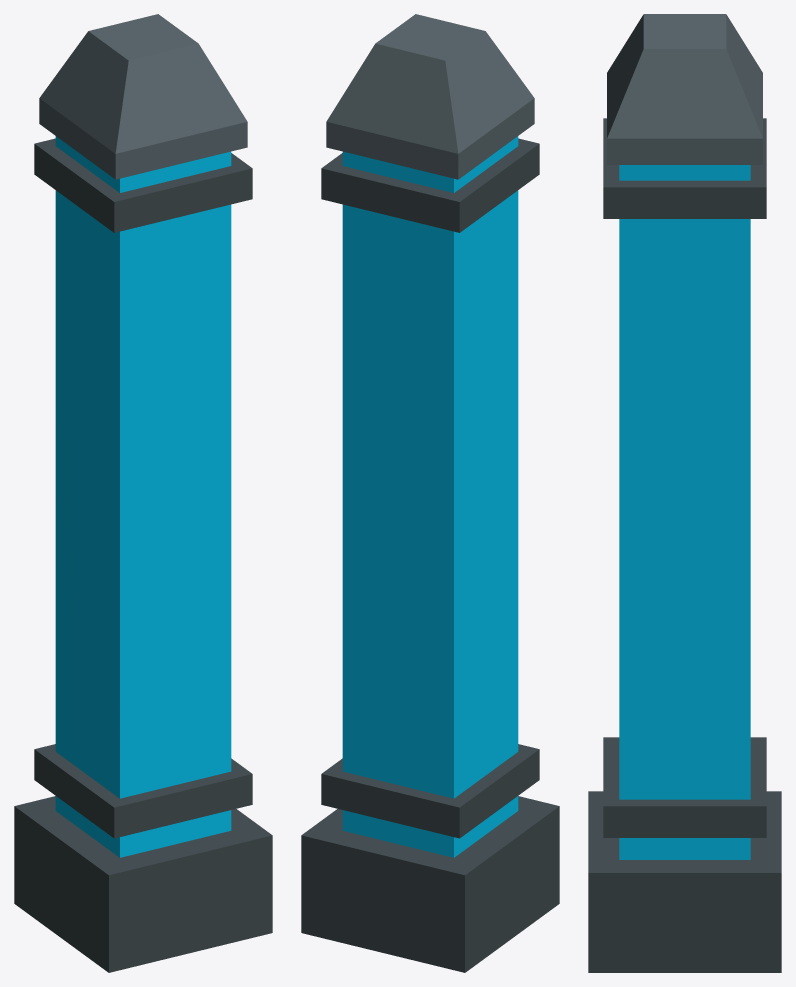
File: Lamp 02 Blue.FBX
3 views of the same model, side by side, from view 1: azimuth 30°, elevation 25°; view 2: azimuth 150°, elevation 25°; view 3: azimuth 270°, elevation 25° (orthographic). The views are drawn at different scales.
Parts seen in each view (by area): view 1: Lamp 02 Blue; view 2: Lamp 02 Blue; view 3: Lamp 02 Blue.
Boxes of the visible parts, bbox=[...] form: Lamp 02 Blue: bbox=[14, 14, 272, 972]; Lamp 02 Blue: bbox=[301, 14, 559, 972]; Lamp 02 Blue: bbox=[588, 14, 781, 972].
Size of the model in its own units: 18.32 by 94.18 by 18.32.
